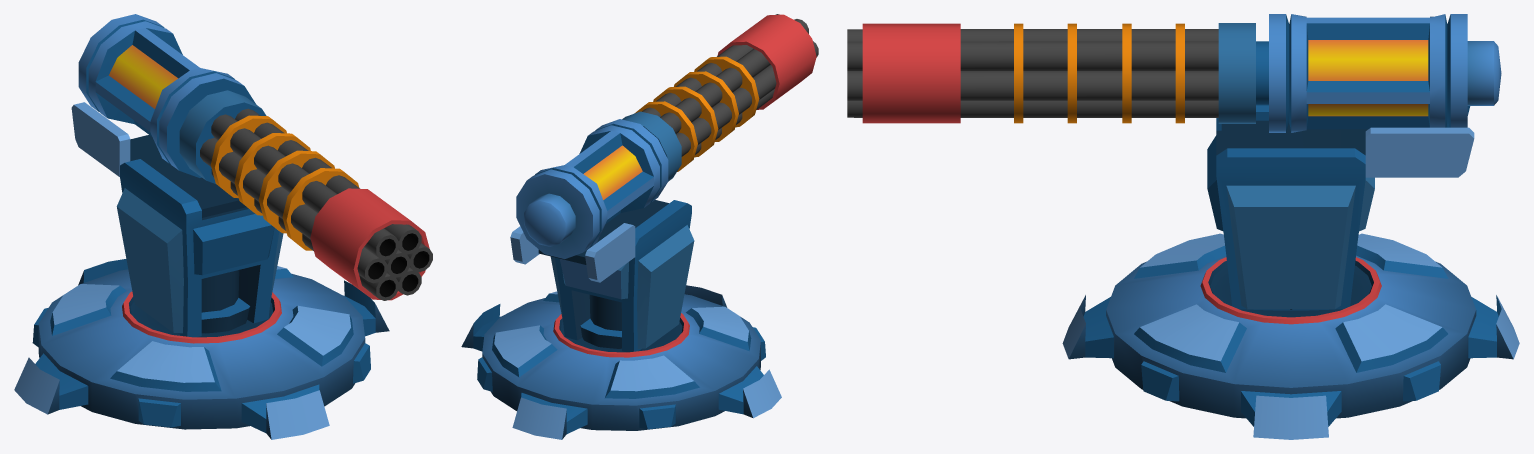
Rendered from Machinegun_01.fbx.
3 renders of one model, left to right at view 1: azimuth 30°, elevation 25°; view 2: azimuth 150°, elevation 25°; view 3: azimuth 270°, elevation 25°, orthographic. The views are drawn at different scales.
Visible parts, largest first — view 1: Machinegun_Platform, Machinegun_Stage, Machinegun_01_Trunk, Machinegun_01; view 2: Machinegun_Platform, Machinegun_Stage, Machinegun_01_Trunk, Machinegun_01; view 3: Machinegun_Platform, Machinegun_01_Trunk, Machinegun_Stage, Machinegun_01.
Boxes of the visible parts, x1,y1,x2,y2 form: Machinegun_Platform: (14,259,389,439); Machinegun_Stage: (71,102,283,337); Machinegun_01_Trunk: (179,90,432,300); Machinegun_01: (78,14,256,177); Machinegun_Platform: (461,285,781,439); Machinegun_Stage: (510,200,694,352); Machinegun_01_Trunk: (622,14,818,181); Machinegun_01: (516,119,668,258); Machinegun_Platform: (1062,233,1519,439); Machinegun_01_Trunk: (847,23,1255,123); Machinegun_Stage: (1207,105,1474,310); Machinegun_01: (1256,14,1501,132).
Size of the model in its own units: 2.47 by 1.92 by 3.63.
